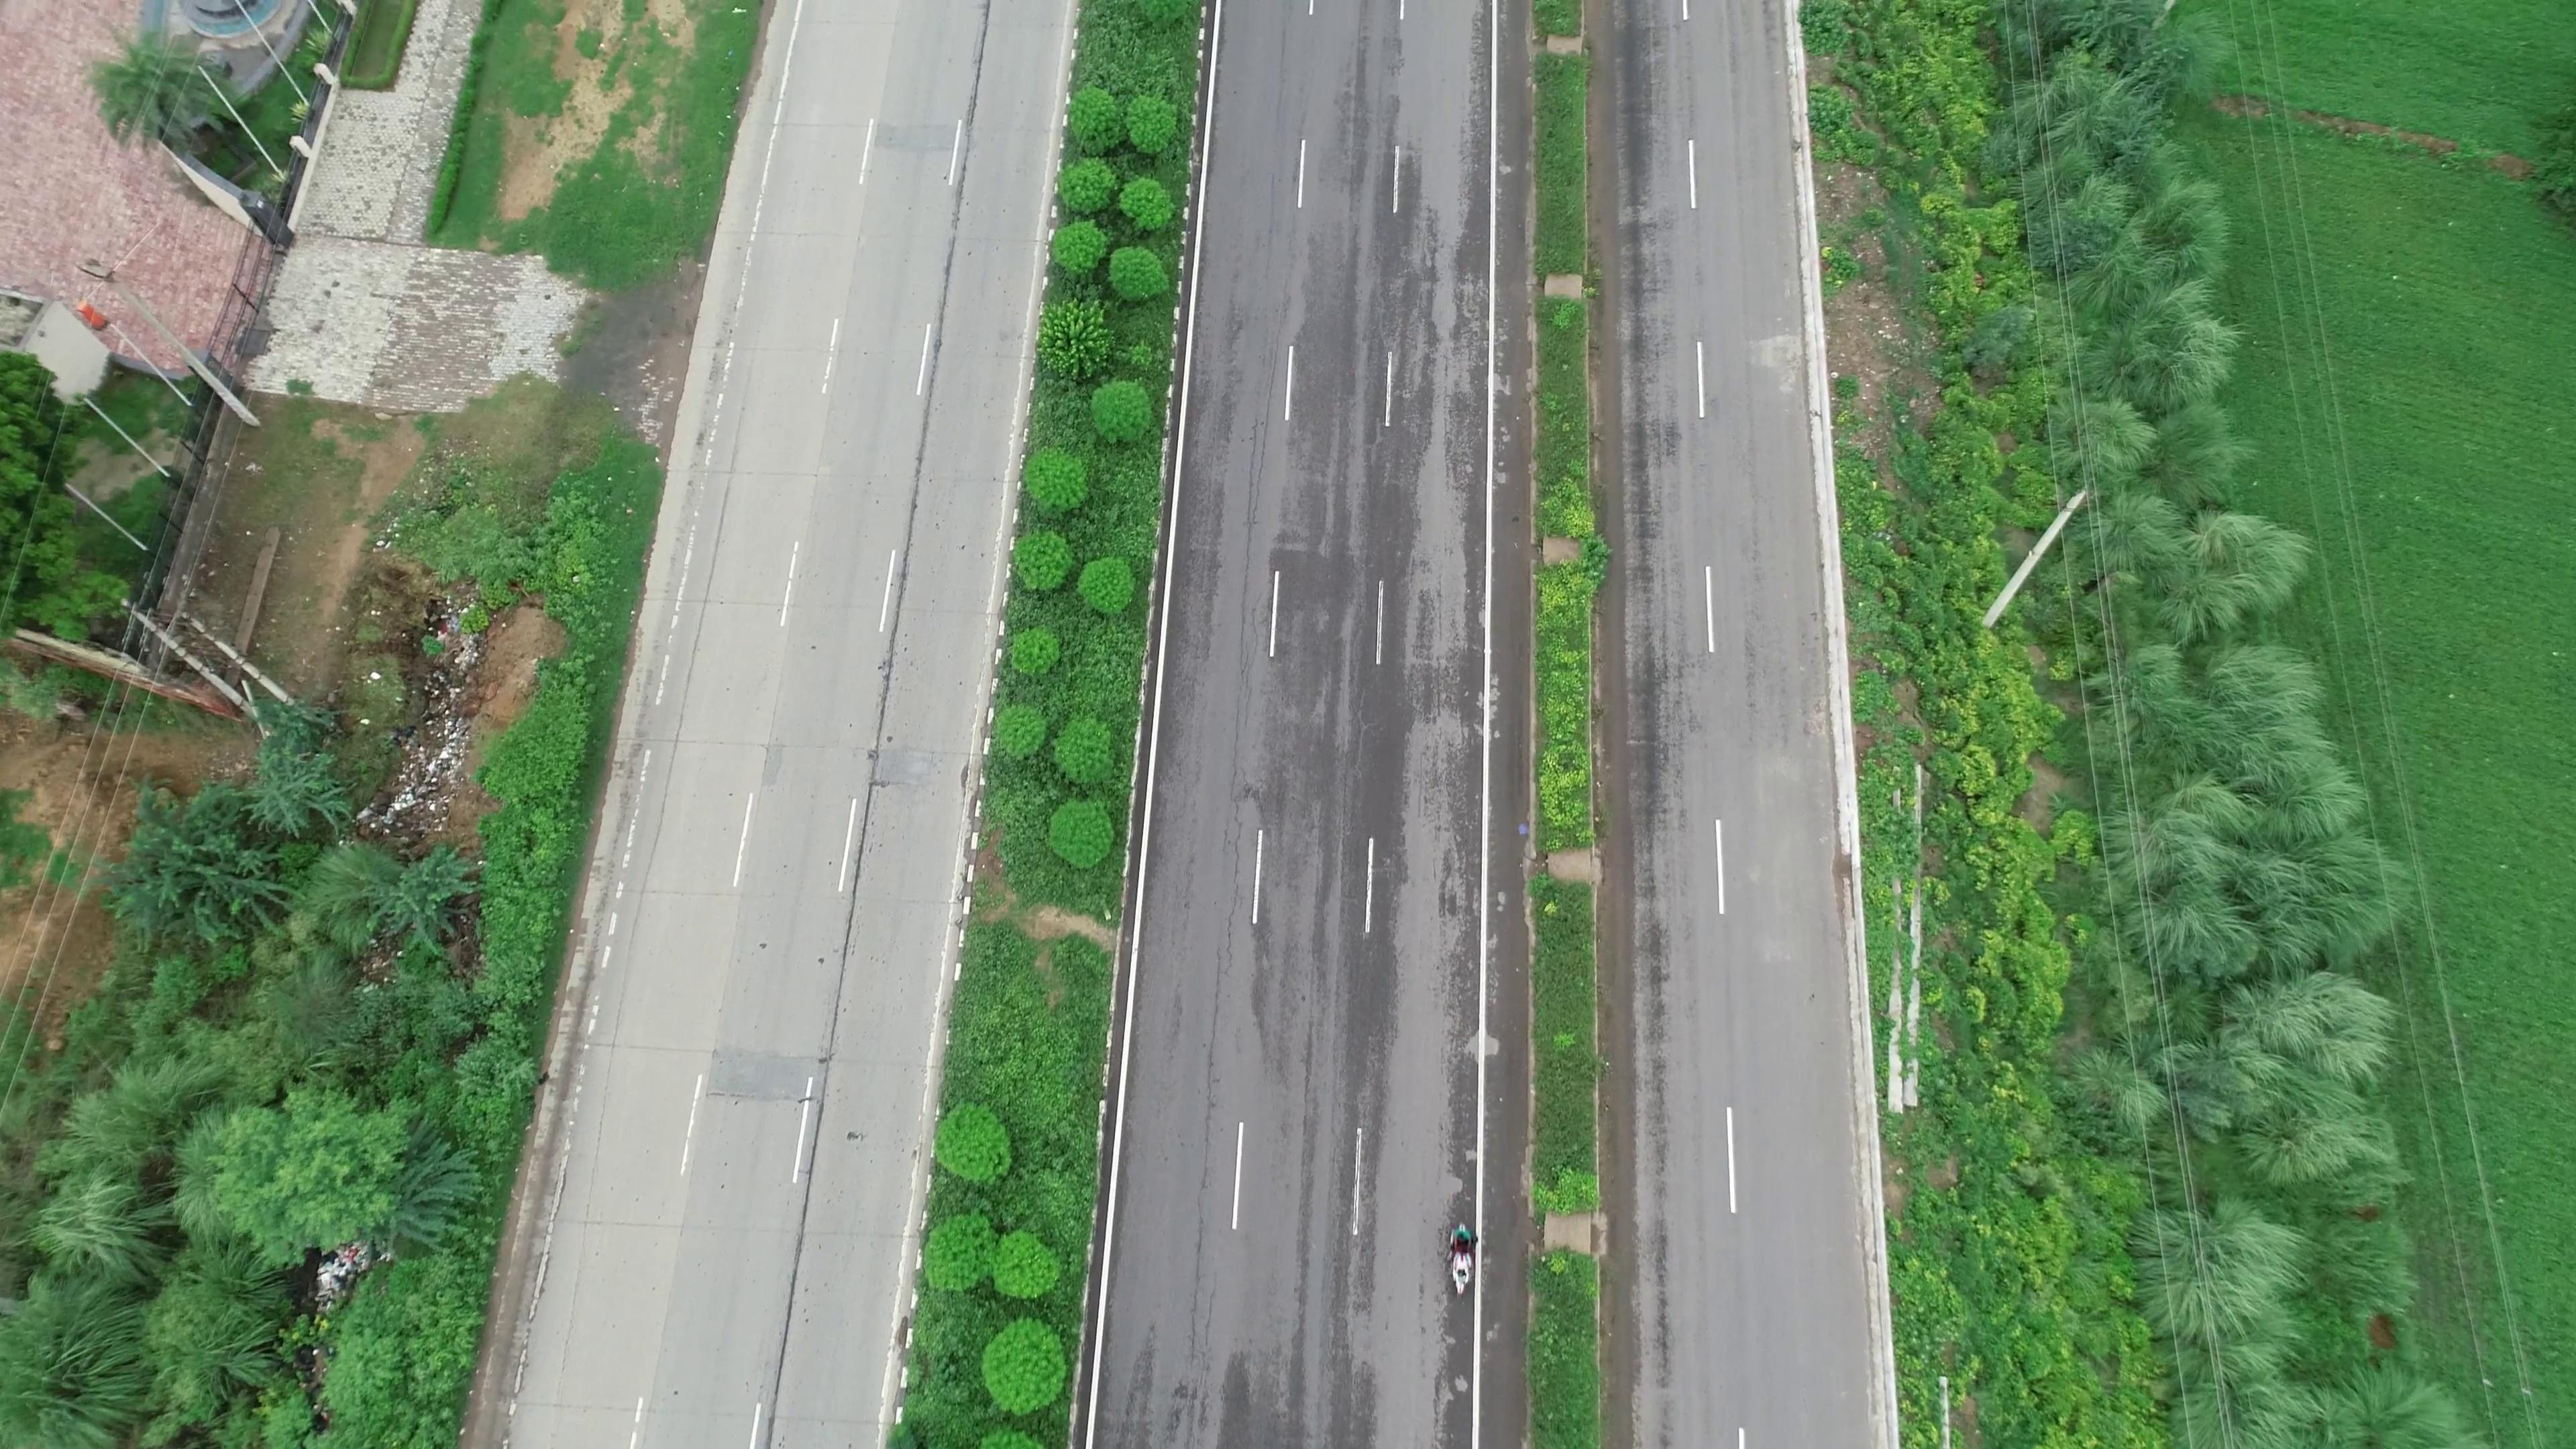Longitudinal_cracks: (1207, 433, 1269, 968)
Ravelling: (1399, 619, 1474, 837), (1387, 207, 1437, 487)
